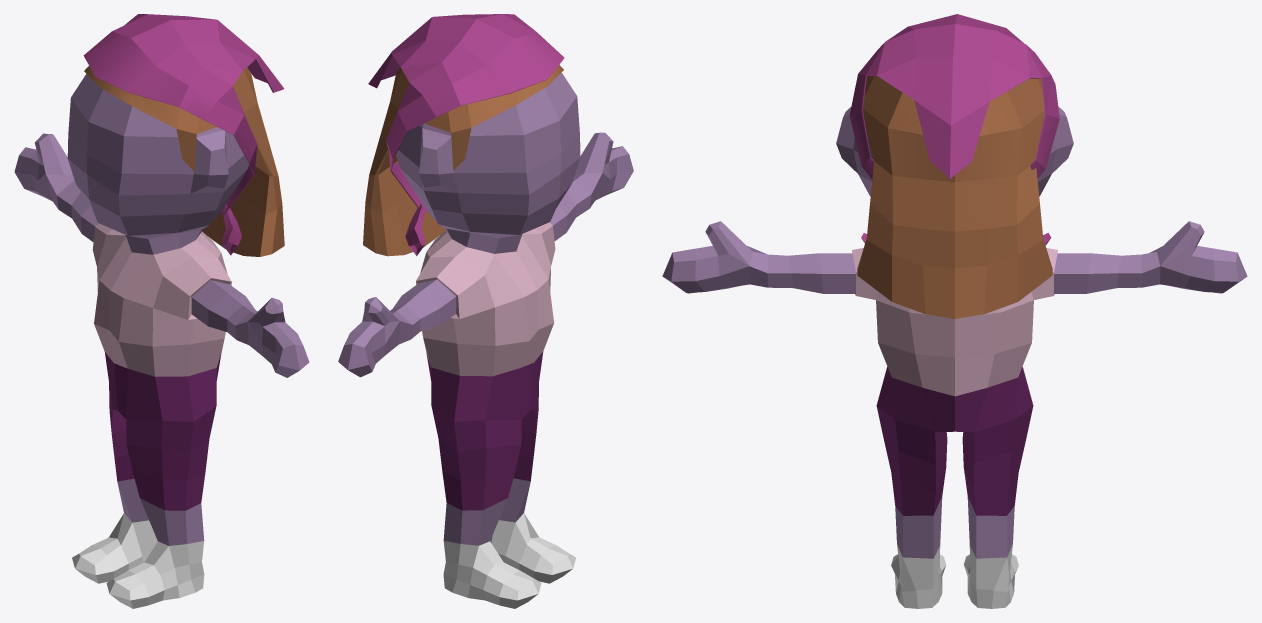
Rendered from Mom.fbx.
The picture shows the model from 3 angles, left to right: view 1: azimuth 30°, elevation 25°; view 2: azimuth 150°, elevation 25°; view 3: azimuth 270°, elevation 25°; orthographic projection. The views are drawn at different scales.
Visible parts, largest first — view 1: Body, polySurface31, LongHair, polySurface30; view 2: Body, polySurface31, LongHair, polySurface29; view 3: Body, LongHair, polySurface31.
Part boxes in pixels (x1,y1,x2,y2): Body: [14, 74, 309, 608]; polySurface31: [83, 14, 284, 215]; LongHair: [84, 66, 284, 256]; polySurface30: [222, 204, 241, 255]; Body: [338, 72, 633, 608]; polySurface31: [368, 14, 564, 212]; LongHair: [363, 65, 563, 256]; polySurface29: [405, 203, 424, 255]; Body: [662, 106, 1247, 608]; LongHair: [857, 75, 1052, 318]; polySurface31: [849, 14, 1059, 179].
Size of the model in its own units: 2.05 by 5.54 by 5.07.
